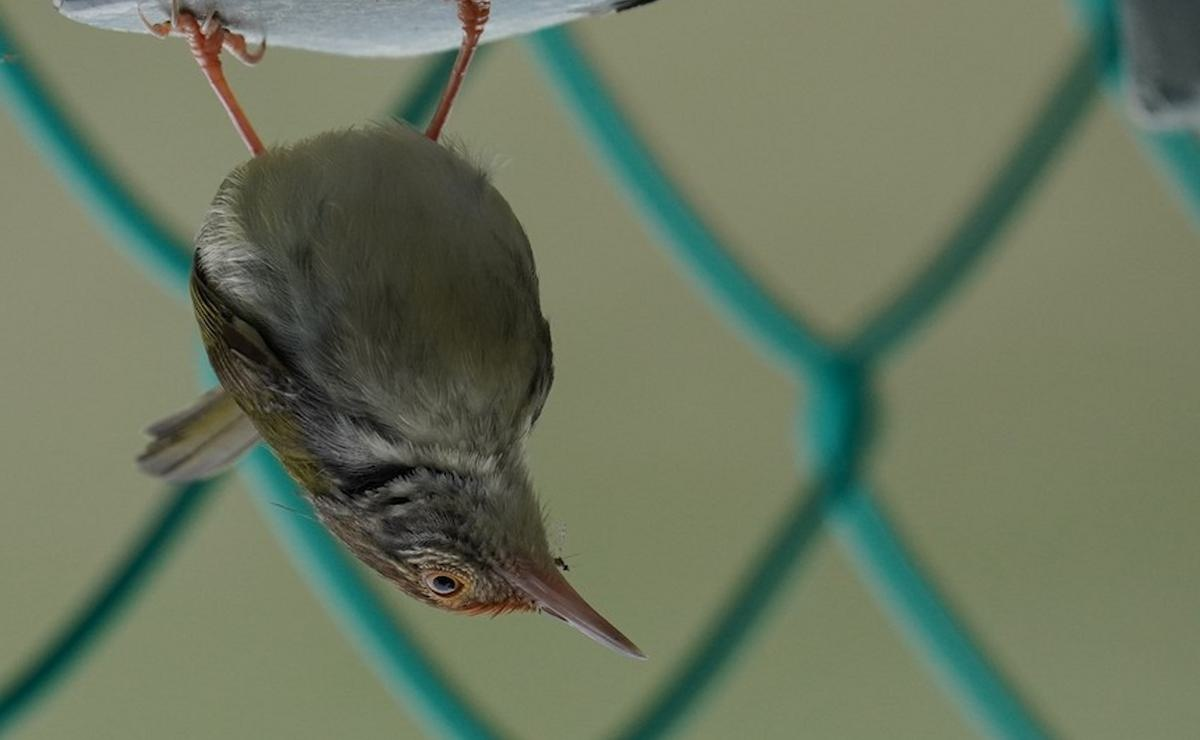tailorbird: (118, 5, 651, 676)
